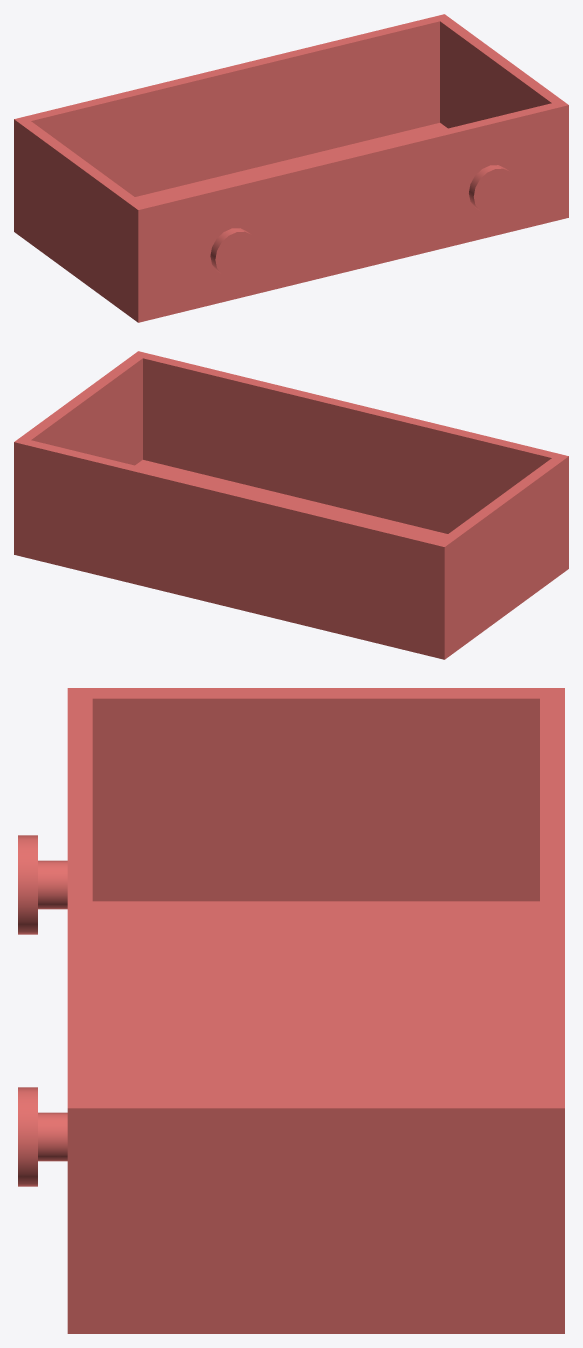
File: drawersLoPoly.gltf
3 views of the same model, one above another, from view 1: azimuth 30°, elevation 25°; view 2: azimuth 150°, elevation 25°; view 3: azimuth 270°, elevation 25° (orthographic). The views are drawn at different scales.
Visible parts, largest first — view 1: drawerLoPoly; view 2: drawerLoPoly; view 3: drawerLoPoly.
Part boxes in pixels (left/top/right/bottom): drawerLoPoly: left=14, top=14, right=568, bottom=322; drawerLoPoly: left=14, top=351, right=568, bottom=659; drawerLoPoly: left=18, top=688, right=564, bottom=1333.
Size of the model in its own units: 1 by 0.25 by 0.55.
